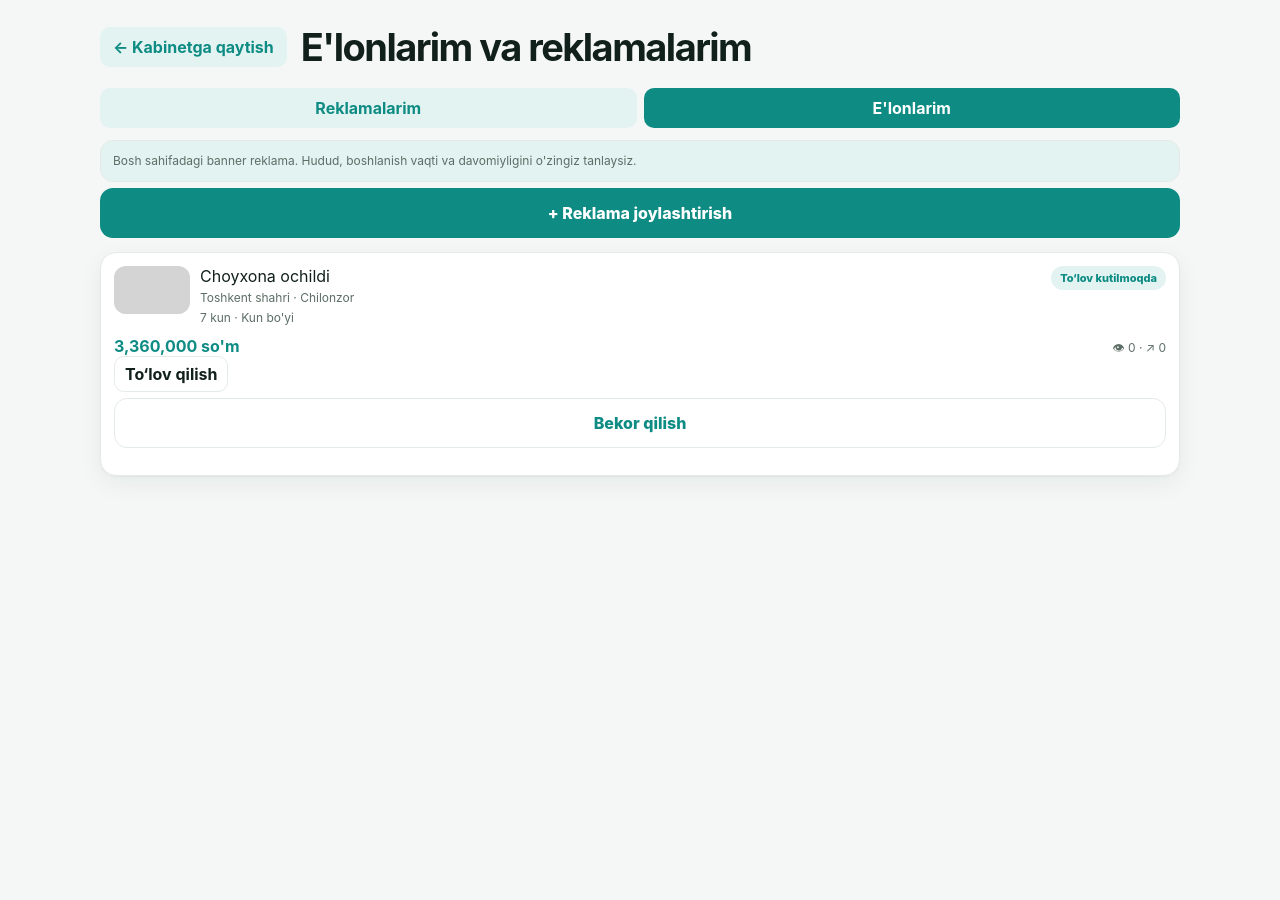
Scenario: to'lov katalogi obuna ekranidan tashqarida ham yuklanadi › reklamada to'lov bosilganda oyna ochiladi
Click the button "To‘lov qilish" at (171,374), box left=114, top=356, right=228, bottom=392
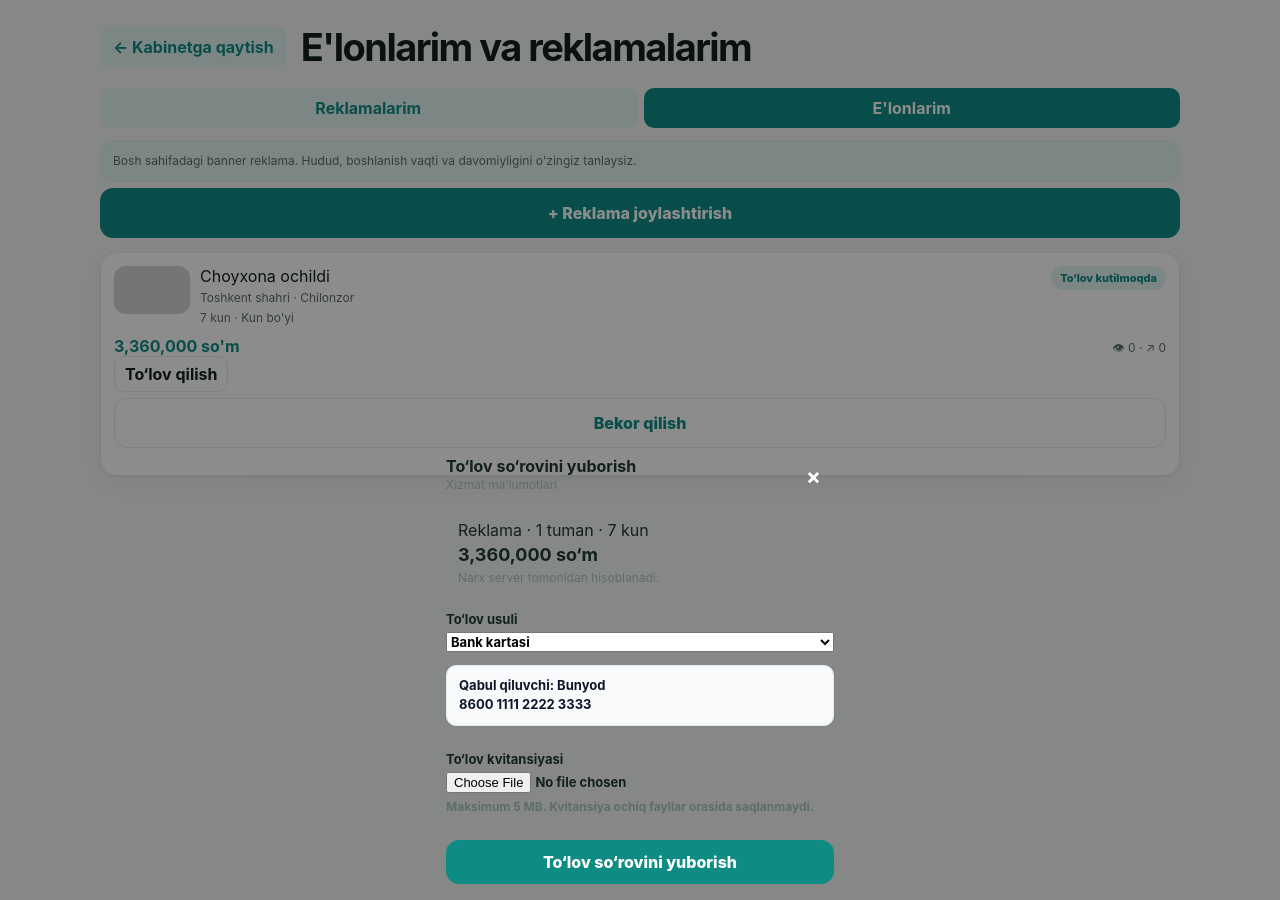
Now the dialog is shown
Now the text "Reklama · 1 tuman · 7 kun" is shown, box left=458, top=520, right=649, bottom=540
